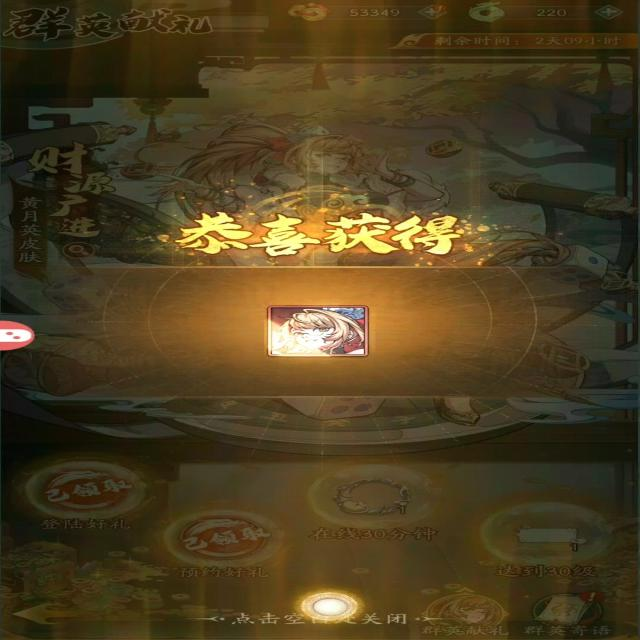hint-guide: (211, 570, 429, 633)
